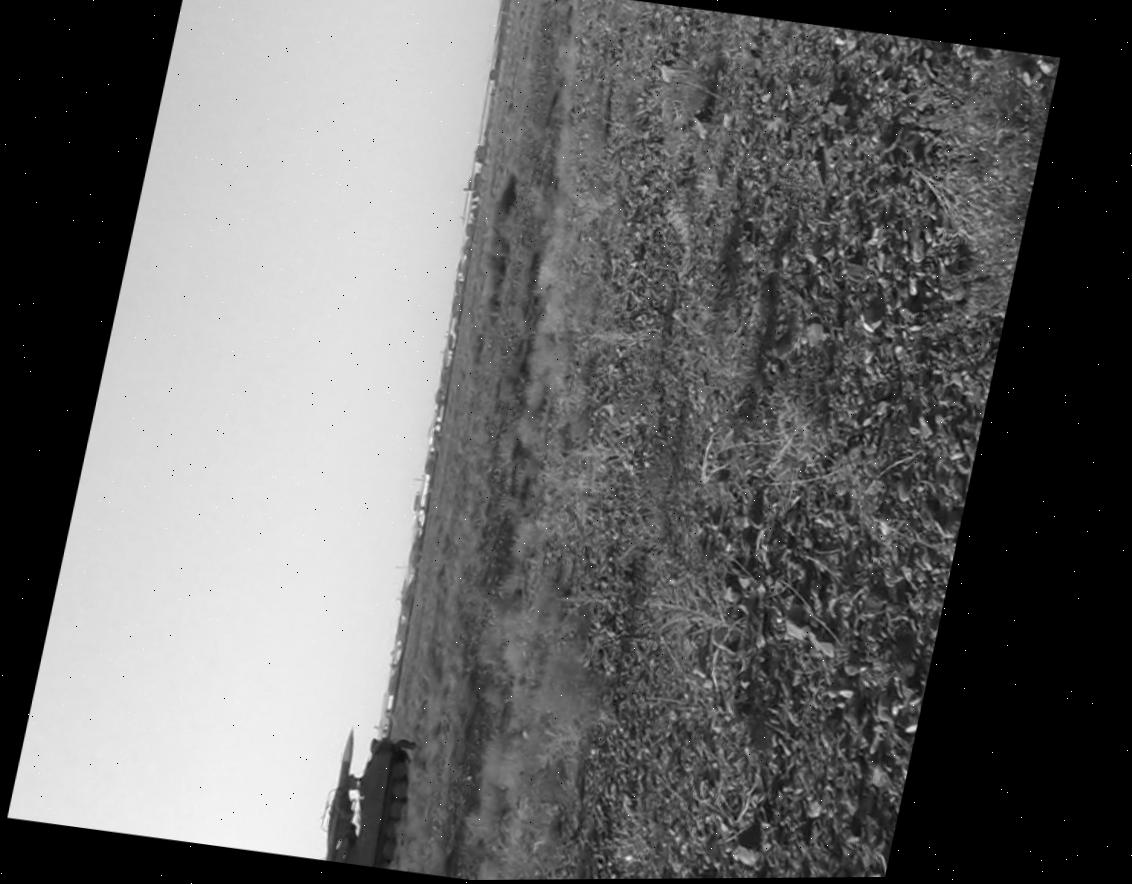armored_car: (304, 720, 426, 871)
